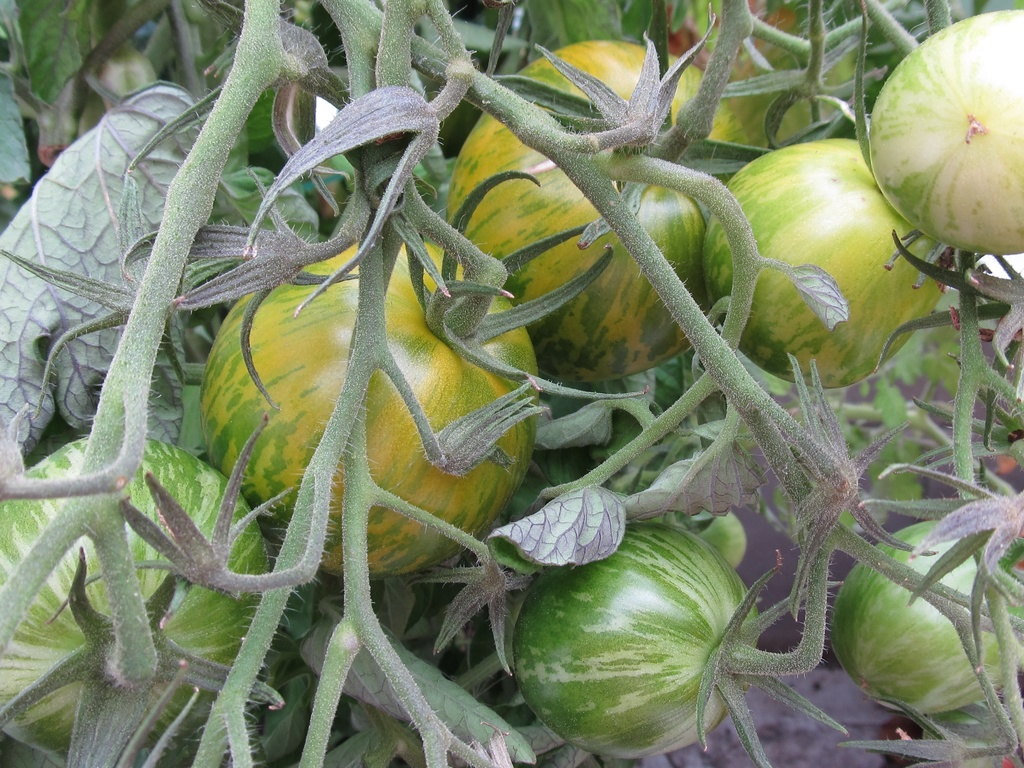Tomato: (200, 241, 549, 582), (453, 29, 754, 385), (0, 439, 266, 767), (720, 137, 945, 387), (511, 535, 762, 751), (824, 519, 1023, 721), (865, 12, 1023, 256)
